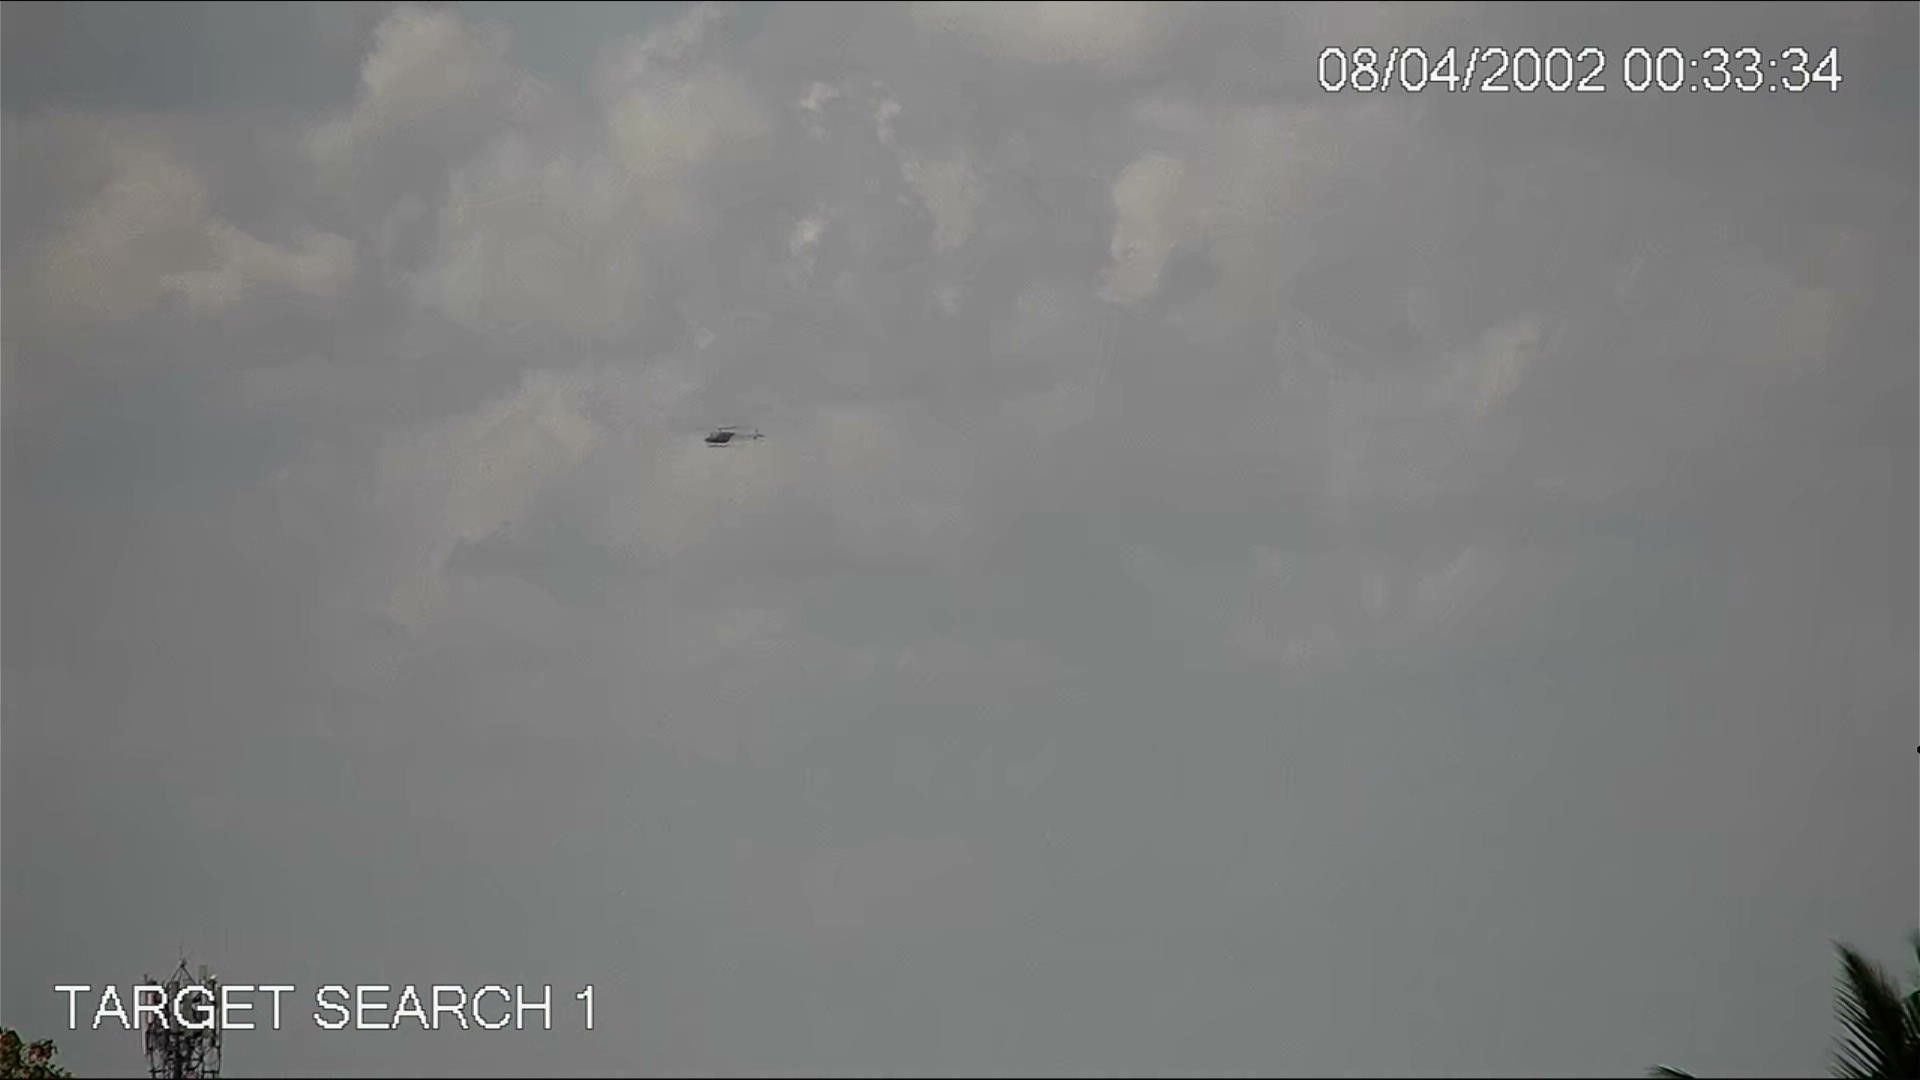SU_30: (704, 417, 770, 454)
